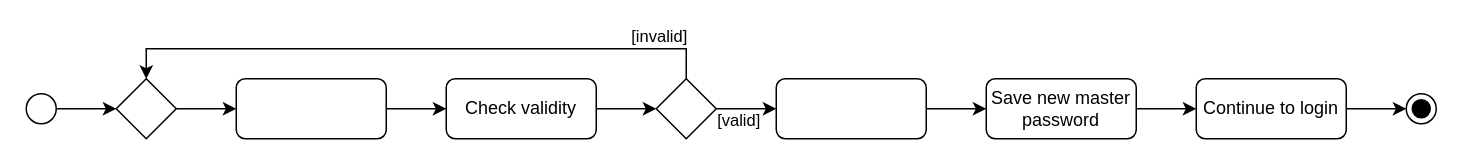
This 1463x165 diagram has some shape labels left out. Each missing label, with the centre of its shape:
"Enter master password" belongs at (x=850, y=108).
"Enter recovery code" belongs at (x=310, y=108).
